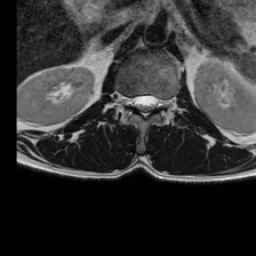CCS_normal: (141, 84, 149, 127)
LFS_normal: (158, 87, 167, 116)
LLS_normal: (149, 85, 158, 117)
RFS_normal: (124, 87, 132, 113)
RLS_normal: (132, 87, 141, 117)
